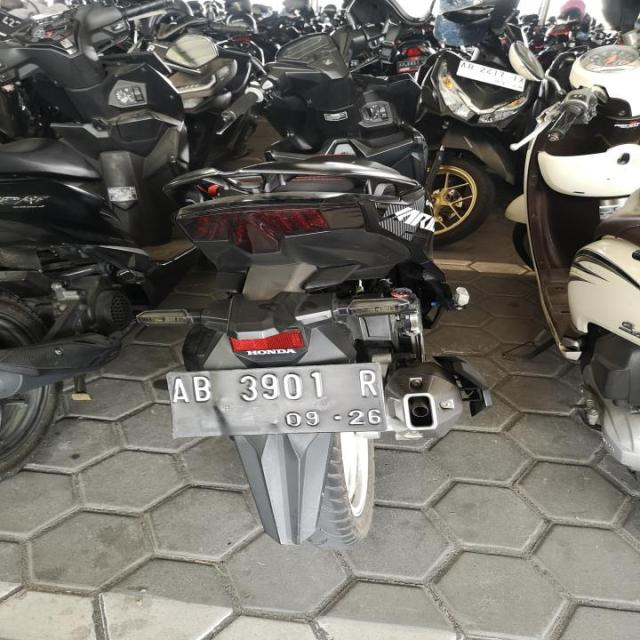License Plate: (166, 360, 390, 440), (456, 60, 527, 93)
